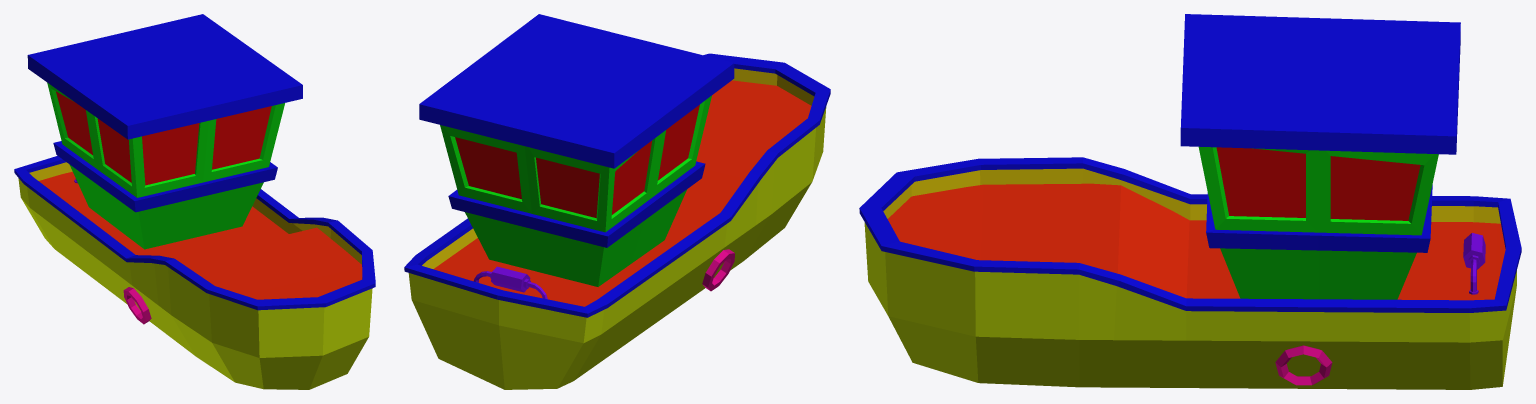
The model's file is Blender.fbx.
The picture shows the model from 3 angles, left to right: view 1: azimuth 30°, elevation 25°; view 2: azimuth 150°, elevation 25°; view 3: azimuth 270°, elevation 25°; orthographic projection. The views are drawn at different scales.
Parts seen in each view (by area): view 1: Barquito 1; view 2: Barquito 1; view 3: Barquito 1.
Boxes of the visible parts, x1,y1,x2,y2 form: Barquito 1: (14,14,375,389); Barquito 1: (404,14,830,389); Barquito 1: (859,14,1521,389).
Size of the model in its own units: 4.83 by 5.81 by 11.64.
